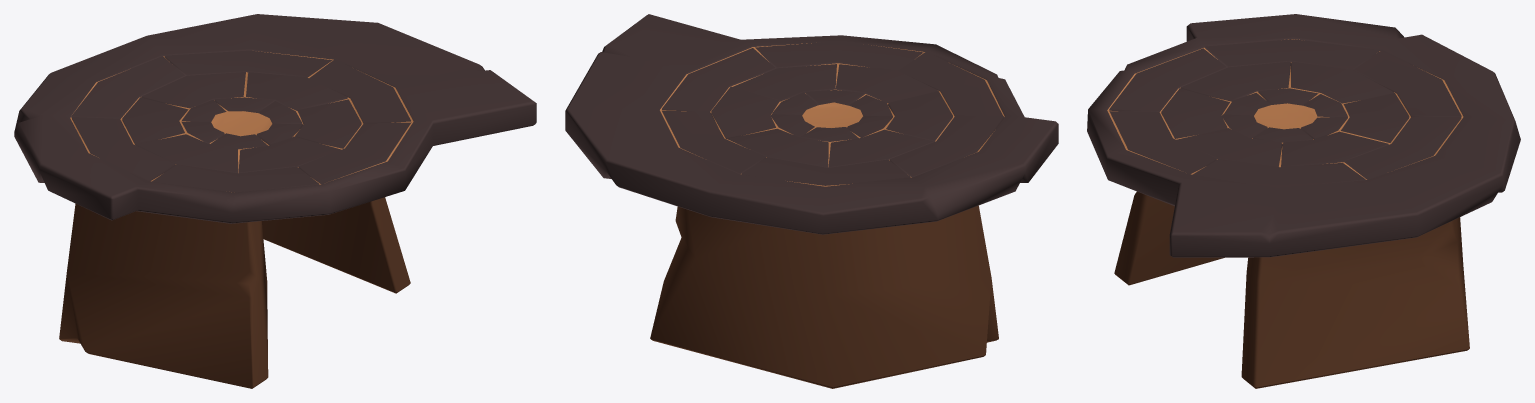
3 renders of one model, left to right at view 1: azimuth 30°, elevation 25°; view 2: azimuth 150°, elevation 25°; view 3: azimuth 270°, elevation 25°, orthographic. The views are drawn at different scales.
Parts seen in each view (by area): view 1: OldTable; view 2: OldTable; view 3: OldTable.
Part boxes in pixels (box(x1,y1,x2,y2)): OldTable: box(14, 14, 536, 388); OldTable: box(565, 14, 1058, 388); OldTable: box(1087, 14, 1520, 388).
Size of what is drawn, in the model's own units: 1.84 by 0.7835 by 1.53.
1 material, 1 textured.
